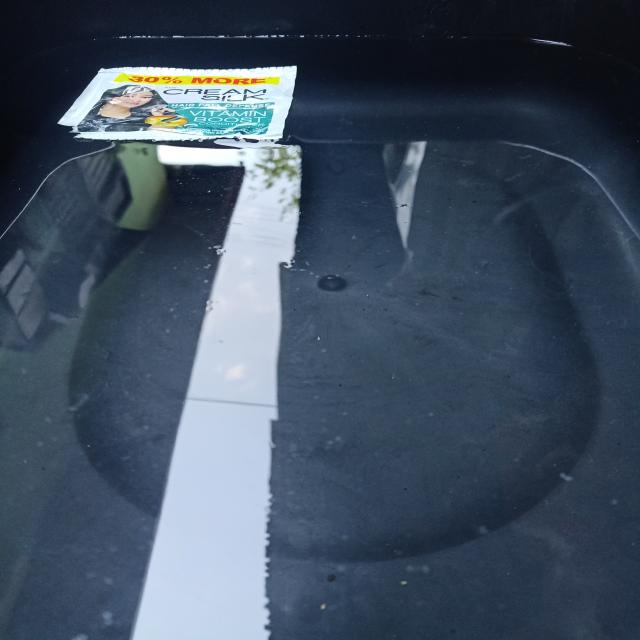Plastic Wrapper: (49, 54, 313, 152)
